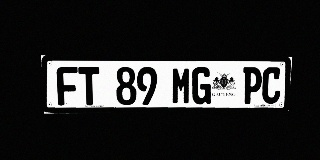8: (116, 67, 136, 105)
9: (137, 67, 157, 105)
C: (261, 67, 282, 104)
F: (56, 67, 79, 105)
G: (191, 67, 212, 104)
M: (171, 67, 191, 104)
P: (242, 67, 262, 104)
T: (78, 67, 100, 105)
